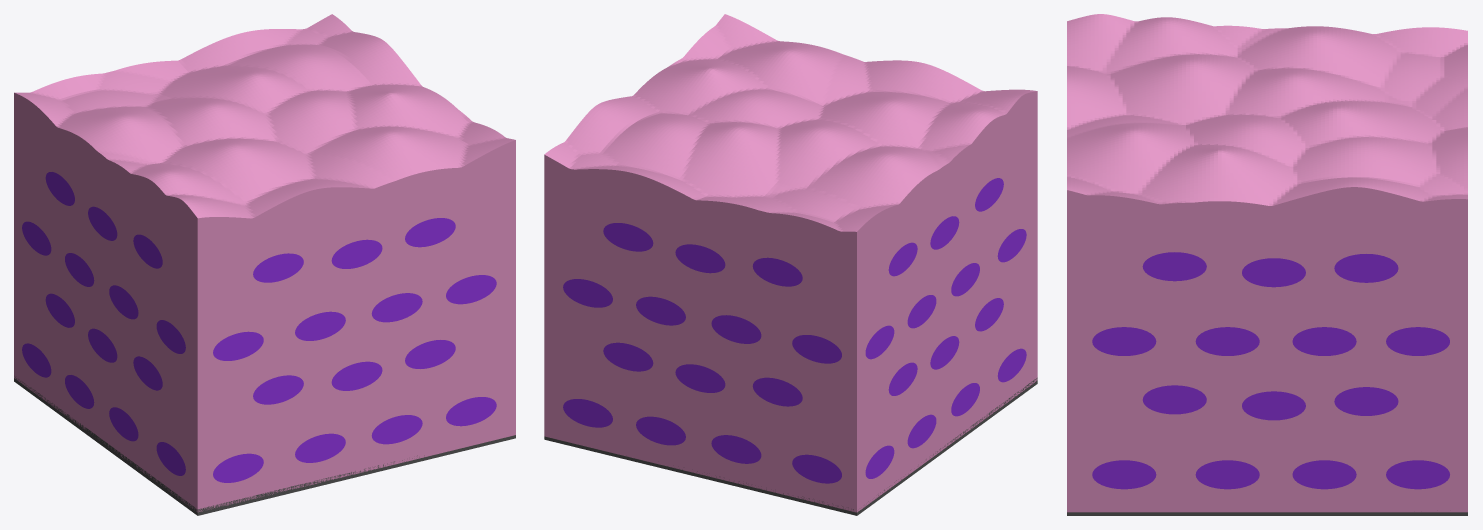
Rendered from Stratified.gltf.
3 renders of one model, left to right at view 1: azimuth 30°, elevation 25°; view 2: azimuth 150°, elevation 25°; view 3: azimuth 270°, elevation 25°, orthographic. The views are drawn at different scales.
Visible parts, largest first — view 1: Circle.003; view 2: Circle.003; view 3: Circle.003.
Boxes of the visible parts, bbox=[...] form: Circle.003: bbox=[14, 14, 515, 515]; Circle.003: bbox=[544, 14, 1037, 515]; Circle.003: bbox=[1067, 14, 1467, 515].
Size of the model in its own units: 10.02 by 9.21 by 10.02.
